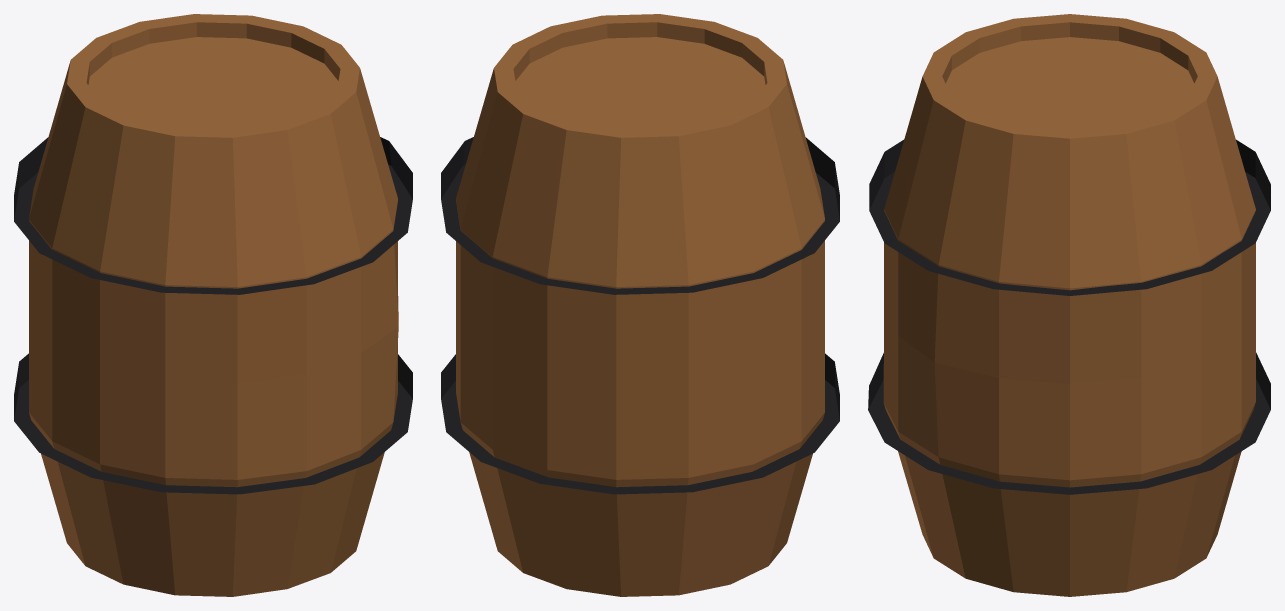
File: Barrell.fbx
3 renders of one model, left to right at view 1: azimuth 30°, elevation 25°; view 2: azimuth 150°, elevation 25°; view 3: azimuth 270°, elevation 25°, orthographic.
Parts seen in each view (by area): view 1: Barrell; view 2: Barrell; view 3: Barrell.
Boxes of the visible parts, x1,y1,x2,y2 form: Barrell: [14, 14, 412, 596]; Barrell: [441, 14, 839, 596]; Barrell: [868, 14, 1270, 596].
Bounding box in the file's own units: 275 × 343 × 273.
